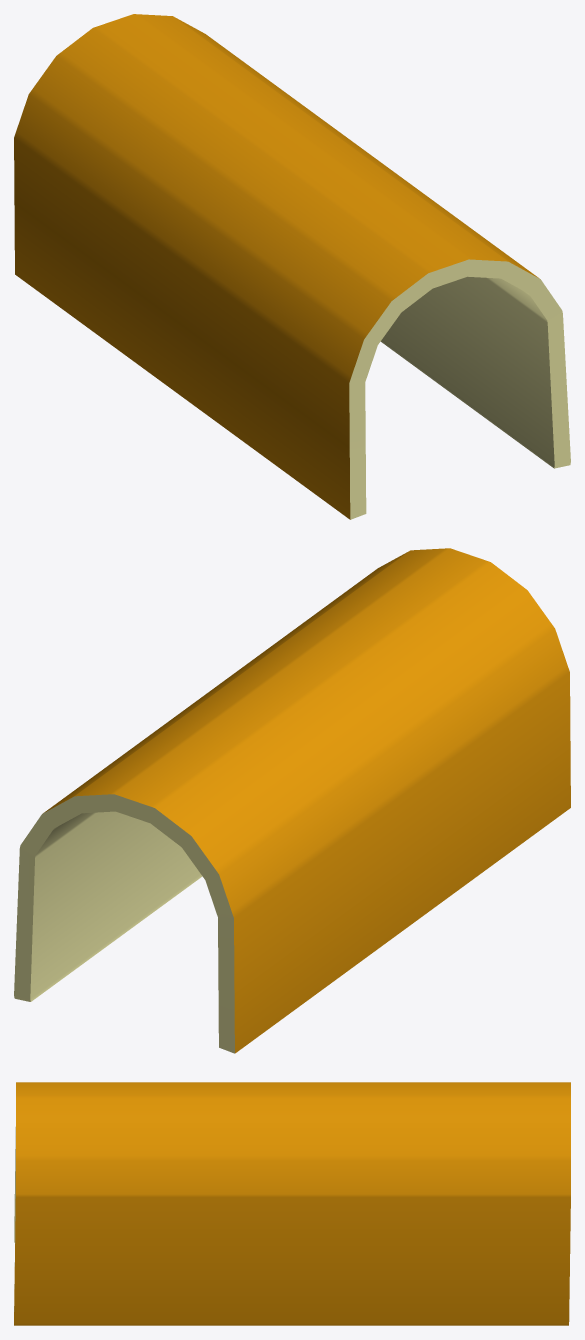
Rendered from tunnel.FBX.
The picture shows the model from 3 angles, top to bottom: view 1: azimuth 30°, elevation 25°; view 2: azimuth 150°, elevation 25°; view 3: azimuth 270°, elevation 25°; orthographic projection. The views are drawn at different scales.
Parts seen in each view (by area): view 1: tunnel; view 2: tunnel; view 3: tunnel.
Boxes of the visible parts, x1=… form: tunnel: x1=14, y1=14, x2=570, y2=519; tunnel: x1=14, y1=548, x2=570, y2=1053; tunnel: x1=14, y1=1082, x2=570, y2=1325.
Size of the model in its own units: 46.45 by 46.39 by 123.
